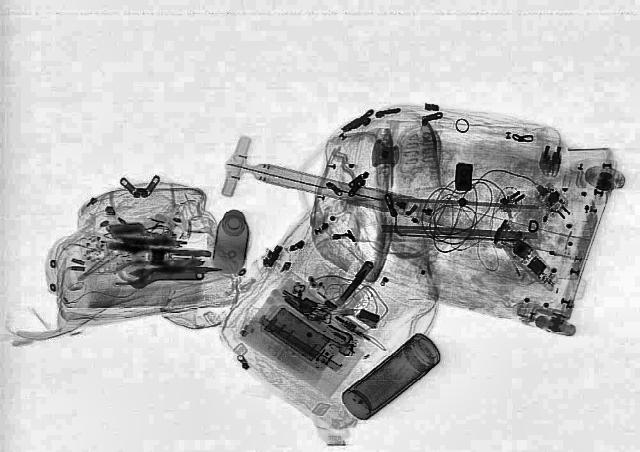Wrench: (128, 265, 204, 287)
